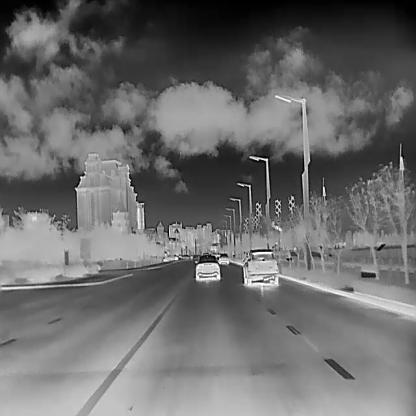car: (242, 248, 279, 286), (194, 251, 220, 280), (217, 252, 228, 264)
